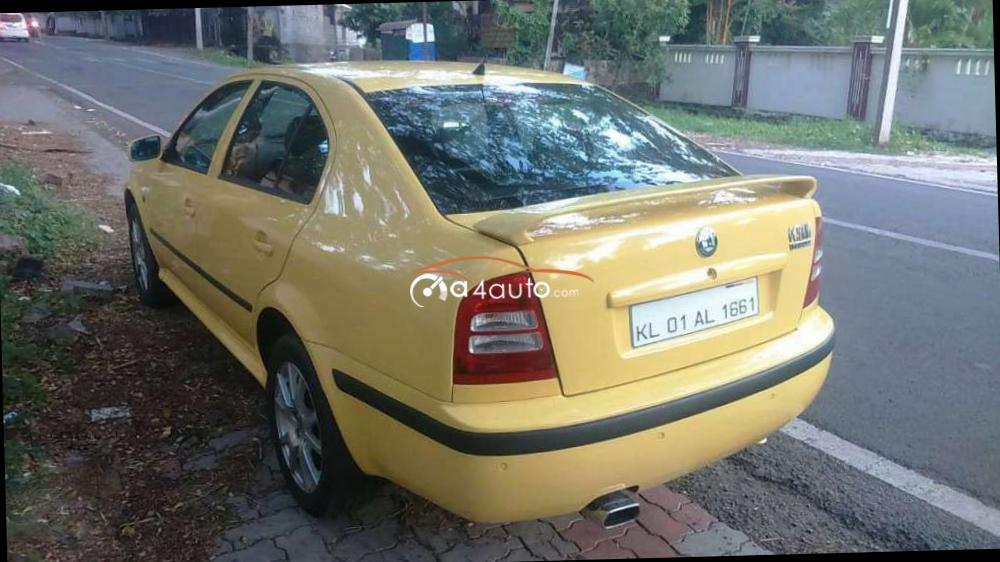plate: (606, 280, 783, 351)
